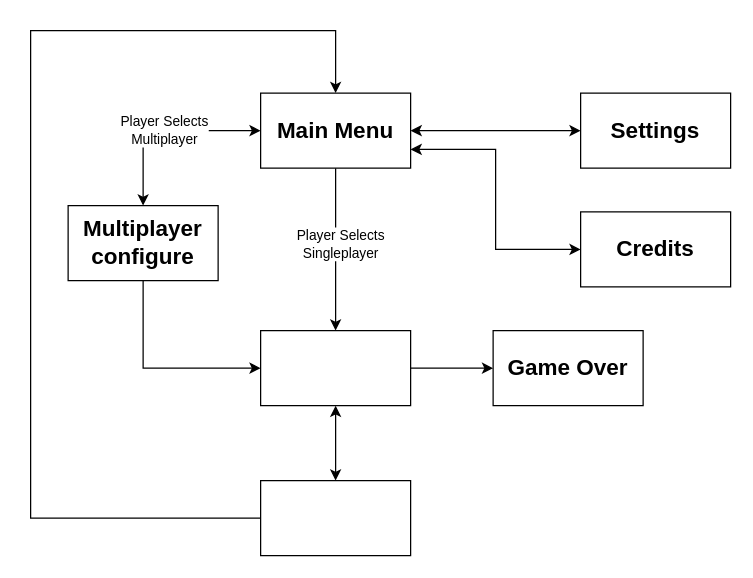
Some shapes in this 753 by 578 pixel diagram are drawn without their labels. Here are the shapes that lost their labels. From the top down, the centre of each, then its label:
[335,367]: Gameplay
[335,517]: Paused
